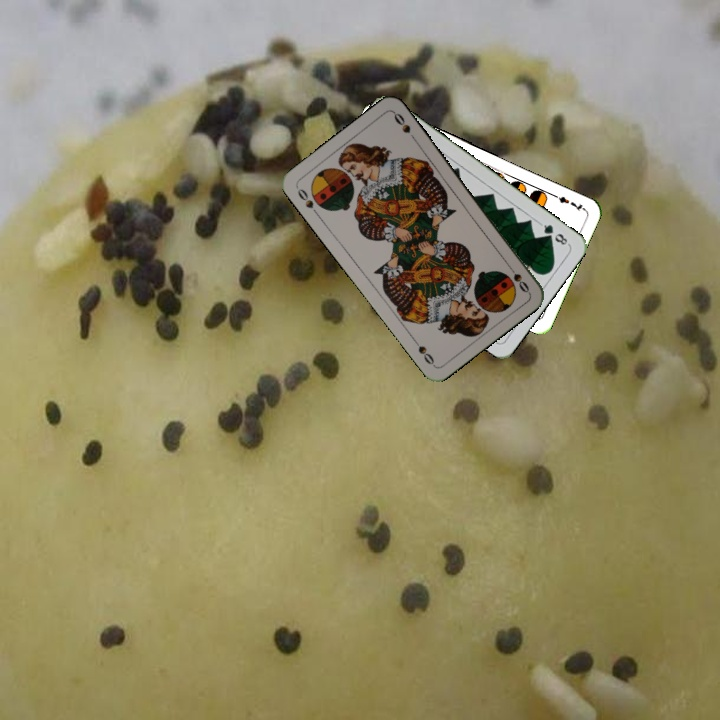E7: (548, 190, 587, 214)
G8: (536, 219, 571, 248)
SO: (503, 260, 532, 295), (292, 183, 321, 218)
